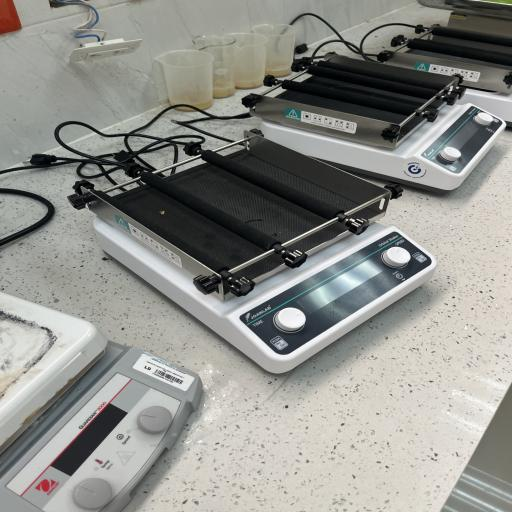Agitador_Orbital_DLAB: (53, 122, 466, 383)
